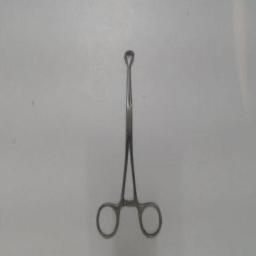Babcock Tissue Forceps: (94, 46, 164, 240)
